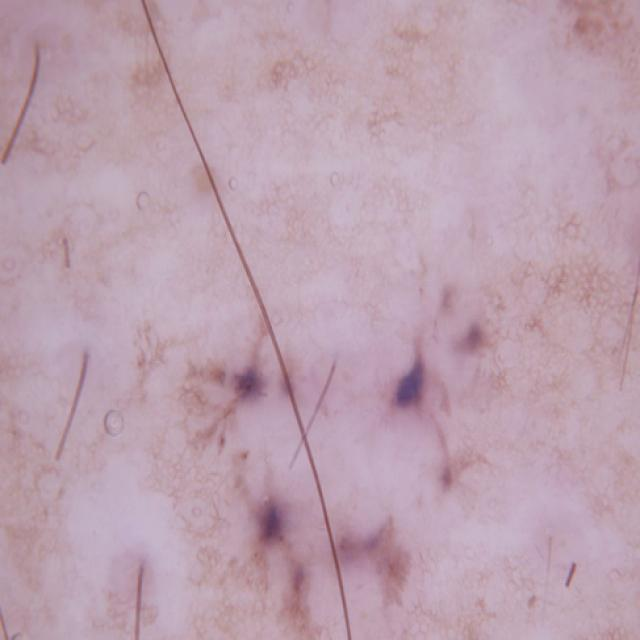Carcinoma: (151, 230, 539, 636)
